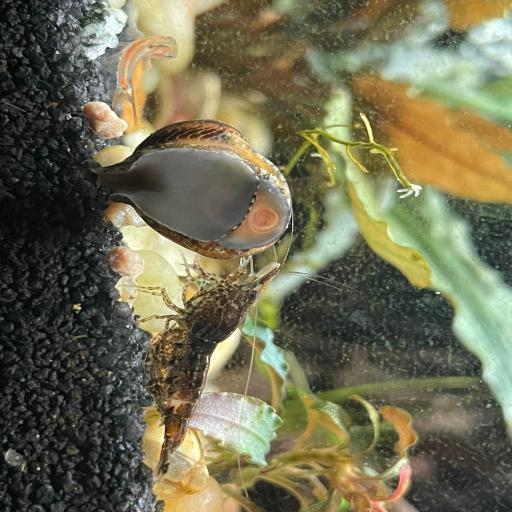Shrimp: (127, 243, 303, 486)
Snail: (94, 111, 298, 256)
